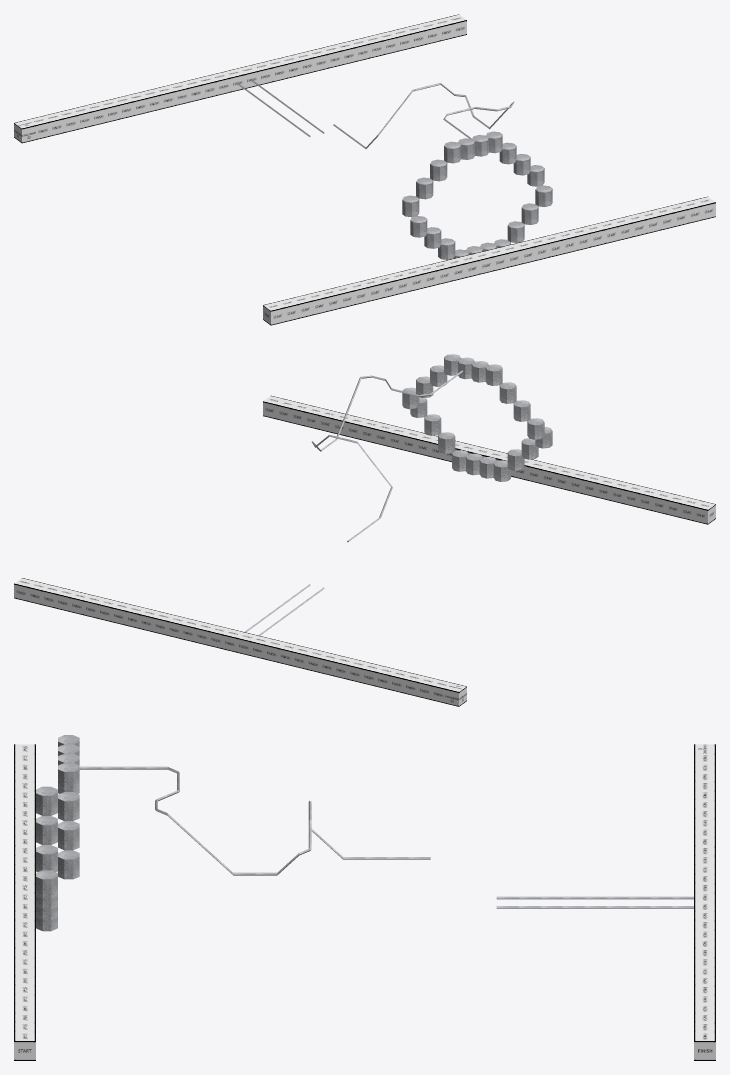
File: challenge32_06.gltf
3 renders of one model, top to bottom at view 1: azimuth 30°, elevation 25°; view 2: azimuth 150°, elevation 25°; view 3: azimuth 270°, elevation 25°, orthographic. The views are drawn at different scales.
Parts seen in each view (by area): view 1: map; view 2: map; view 3: map.
Boxes of the visible parts, left/top/right/bottom form: map: left=14, top=14, right=715, bottom=325; map: left=14, top=354, right=715, bottom=706; map: left=14, top=735, right=715, bottom=1060.
Bounding box in the file's own units: 64 × 16 × 64.
5 materials, 5 textured.
